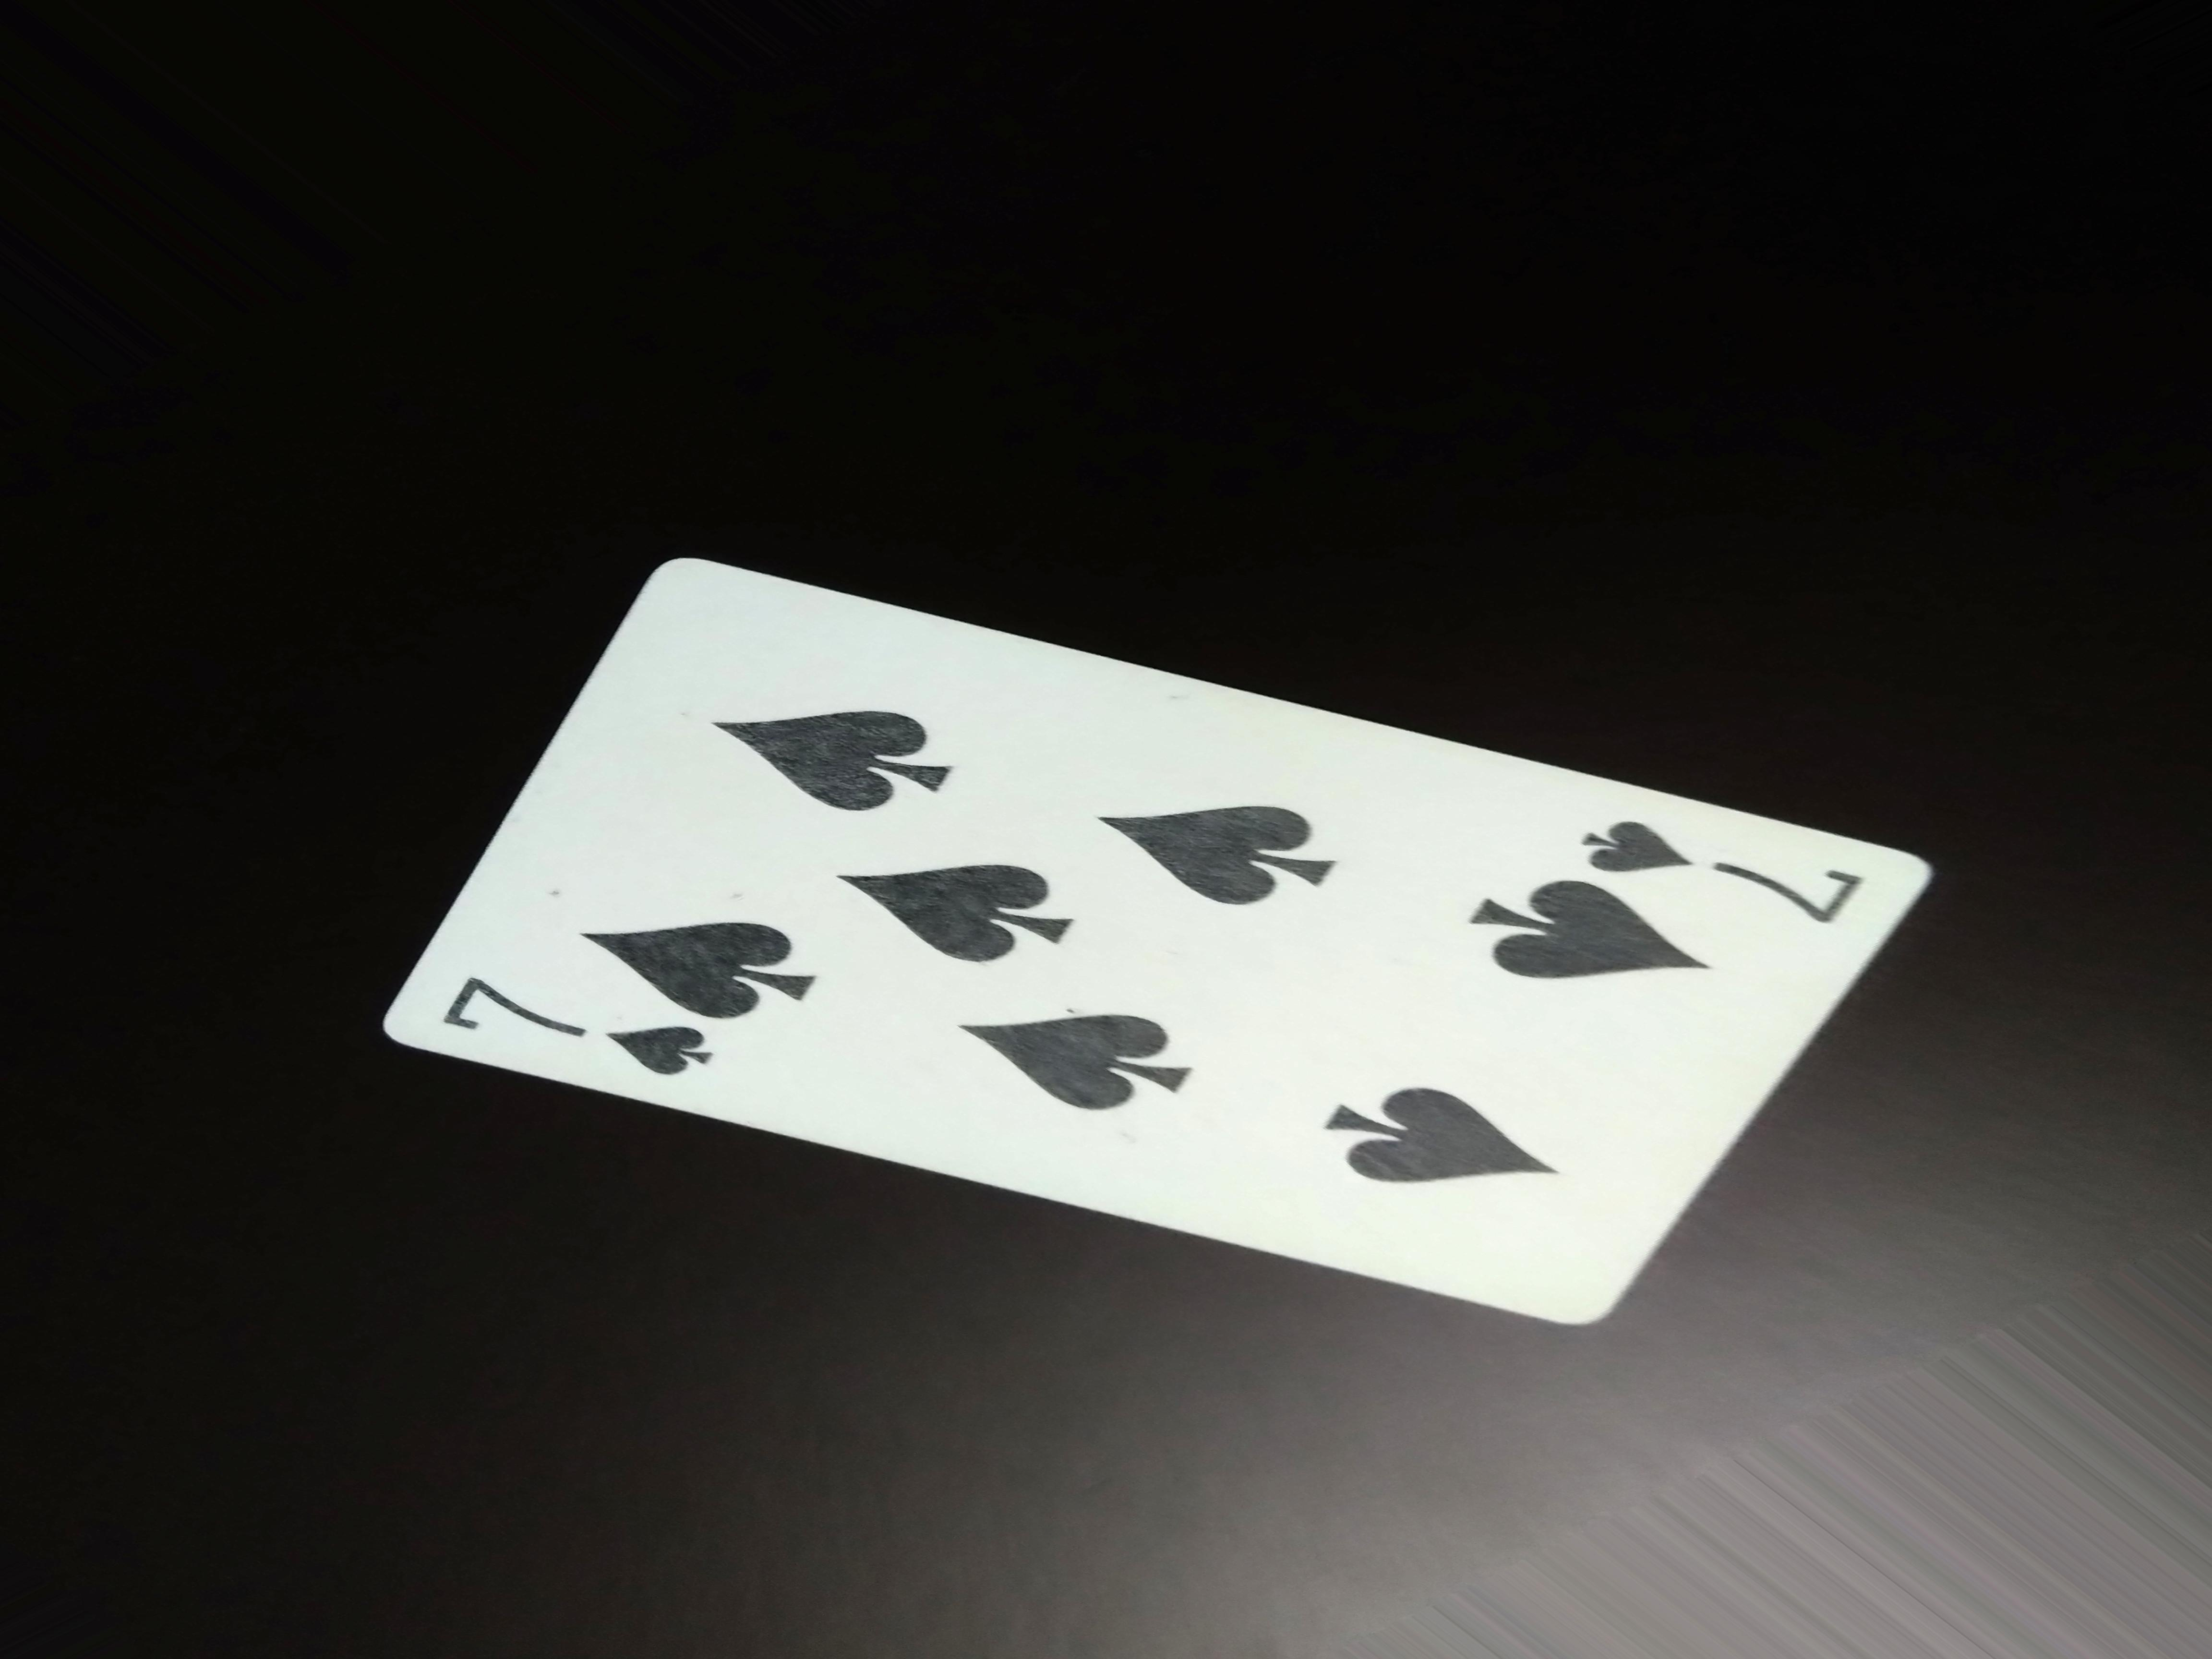7S: (425, 962, 737, 1101)
